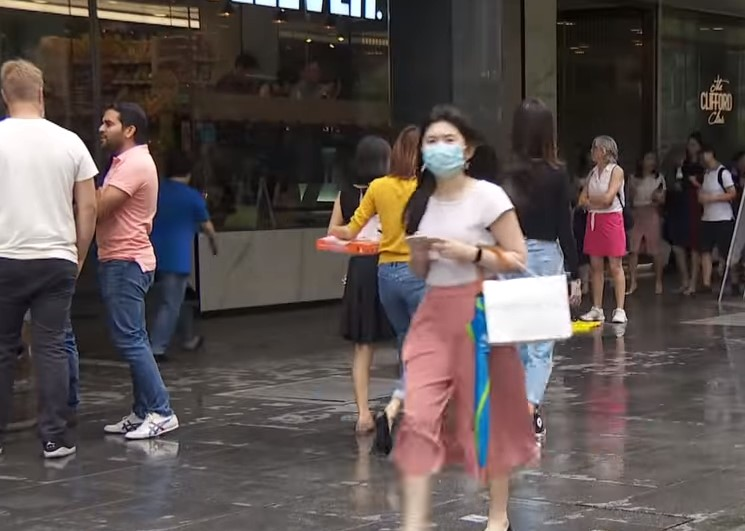face_no_mask: (95, 99, 145, 155), (586, 135, 613, 167)
face_with_mask: (416, 115, 479, 181)
